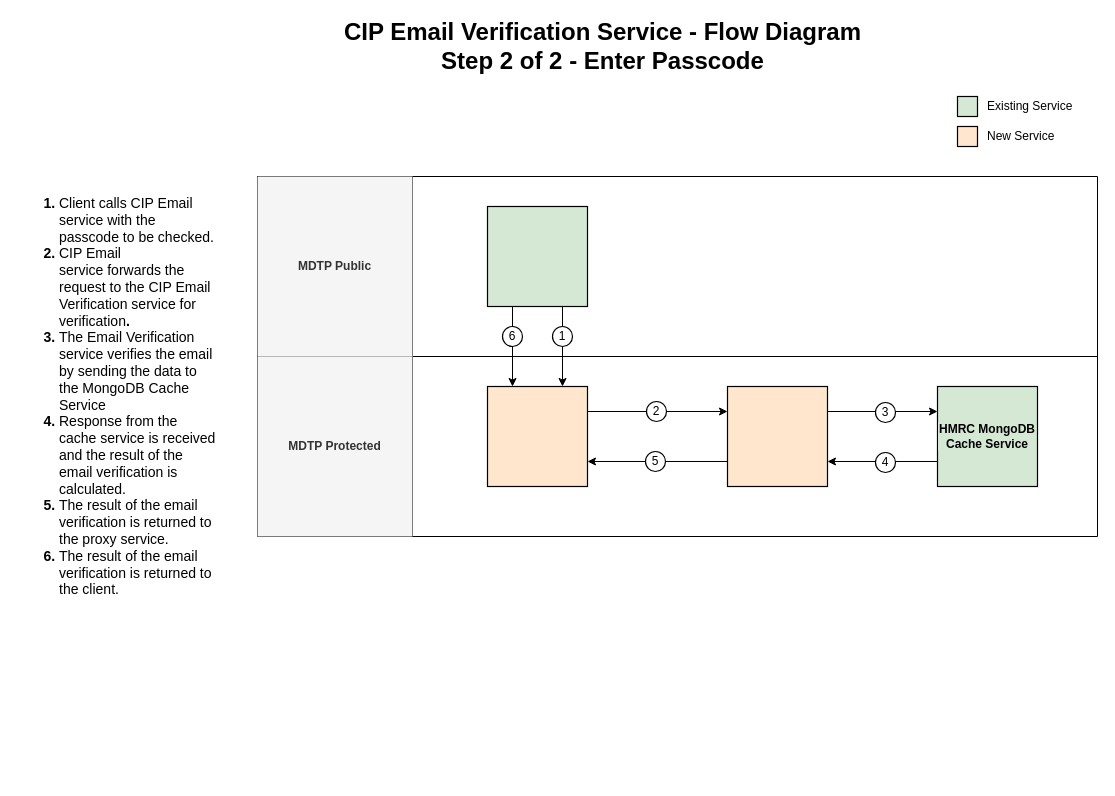
Some shapes in this 1115 by 796 pixel diagram are drawn without their labels. Each missing label, with the box of its shape:
CIP Email Service: (486, 385, 588, 487)
CIP Email Verification Service: (726, 385, 828, 487)
Client: (486, 205, 588, 307)
